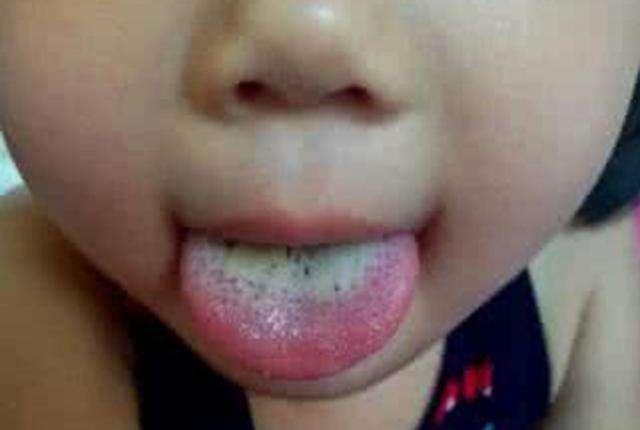hongshe: (181, 225, 419, 379)
huangtaishe: (181, 225, 419, 379)
